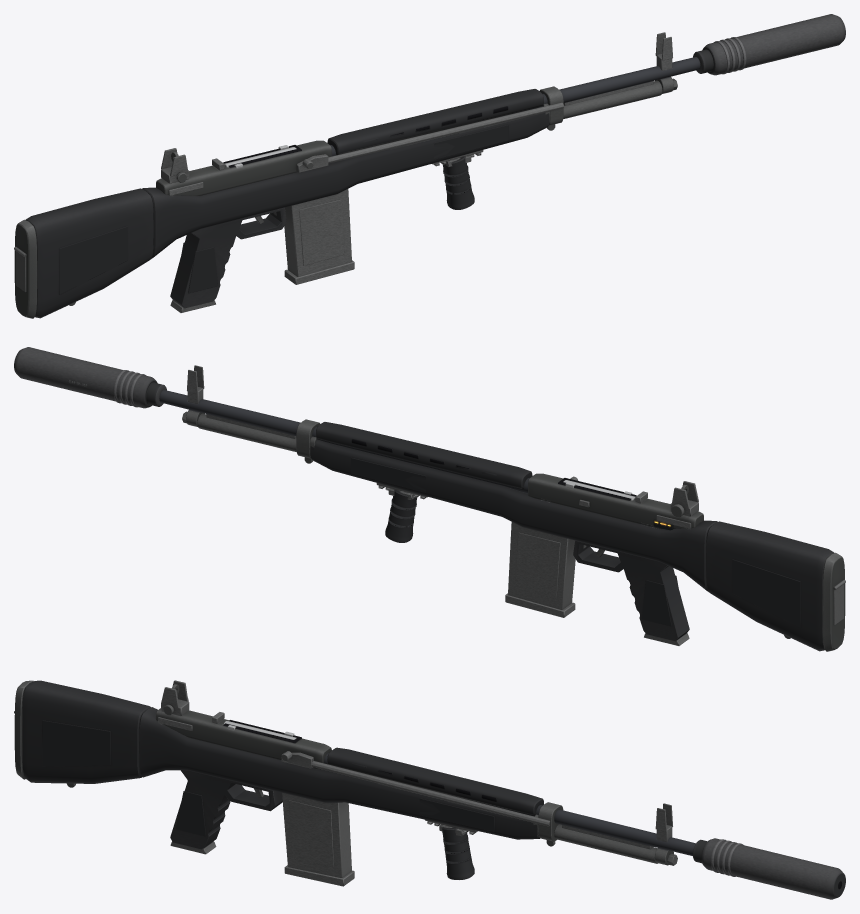
3 renders of one model, top to bottom at view 1: azimuth 30°, elevation 25°; view 2: azimuth 150°, elevation 25°; view 3: azimuth 330°, elevation 25°, orthographic.
Visible parts, largest first — view 1: body, stock, magazine, slide; view 2: body, stock, magazine; view 3: body, stock, magazine, slide.
Boxes of the visible parts, x1,y1,x2,y2 form: body: [142, 14, 845, 312]; stock: [14, 188, 153, 318]; magazine: [284, 189, 354, 284]; slide: [224, 102, 563, 172]; body: [14, 347, 717, 645]; stock: [706, 521, 845, 651]; magazine: [505, 522, 575, 617]; body: [139, 680, 845, 899]; stock: [14, 680, 150, 787]; magazine: [282, 792, 354, 886]; slide: [223, 721, 550, 826].
Size of the model in its own units: 1.2 by 0.22 by 0.0544.
1 material, 1 textured.
